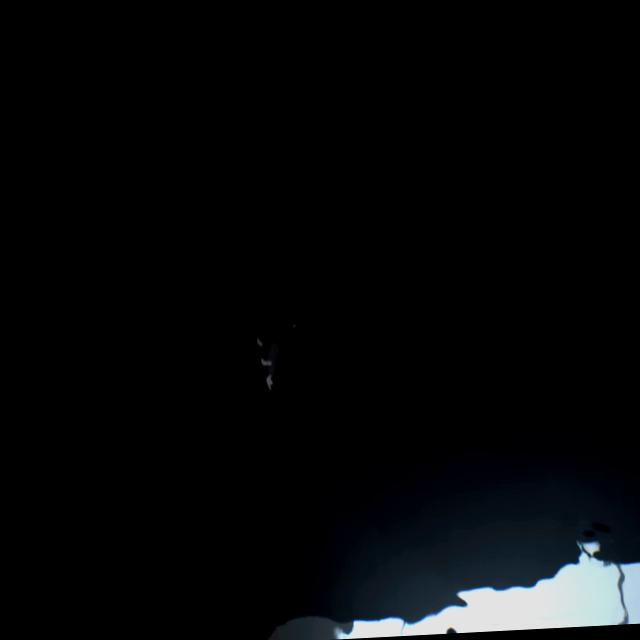boy: (254, 316, 297, 393)
